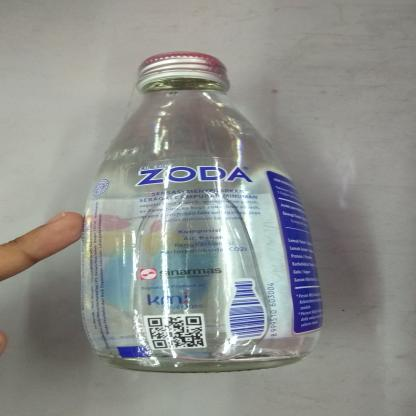glass: (71, 46, 325, 376)
